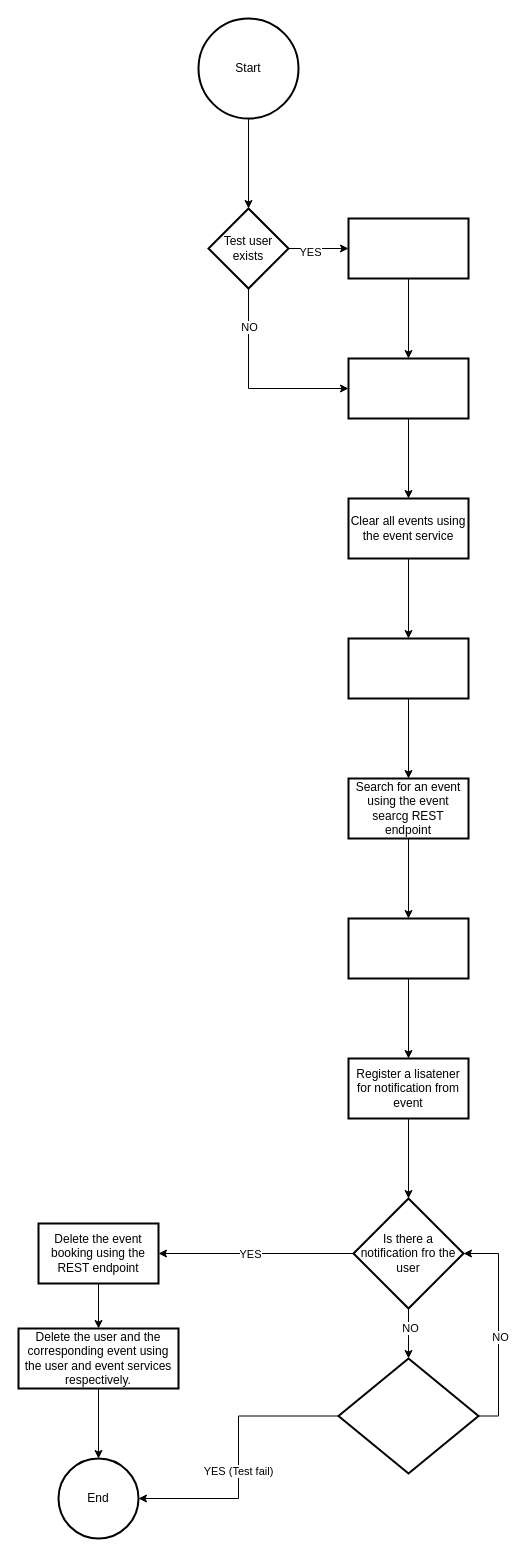
The diagram is 525 pixels wide and 1556 high, and some of its shapes have lost their labels. Each missing label, with the box of its shape:
Book the event for the new user using the REST endpoint: (347, 917, 469, 979)
Create a new event using the Event REST endpoint: (347, 637, 469, 699)
Create a new test user using the REST endpoint: (347, 357, 469, 419)
Delete test user using the user service: (347, 217, 469, 279)
Has the test timed out: (337, 1357, 479, 1474)
